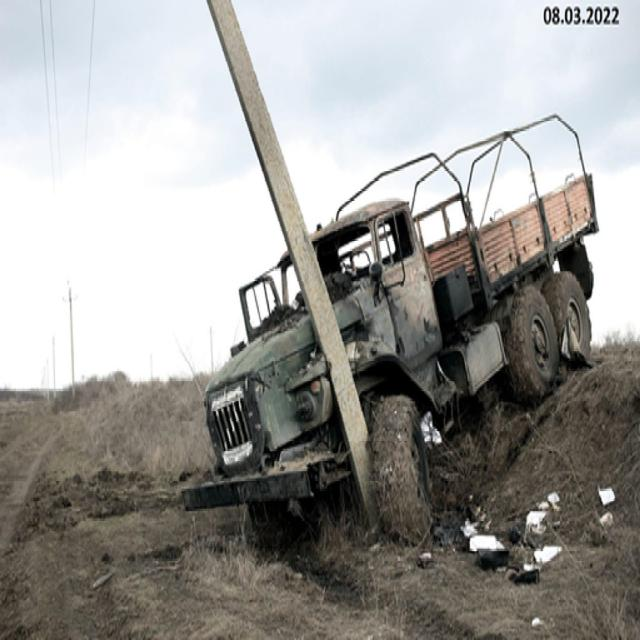TRUCK: (179, 98, 601, 558)
